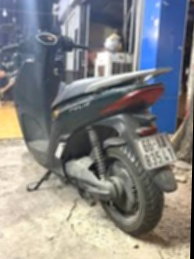Bien-so: (143, 131, 188, 172)
